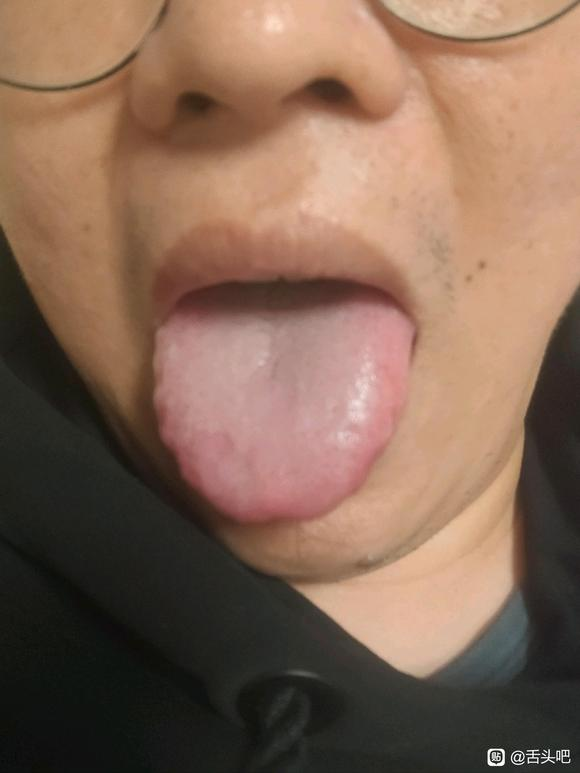baitaishe: (153, 283, 414, 525)
chihenshe: (153, 336, 202, 494)
